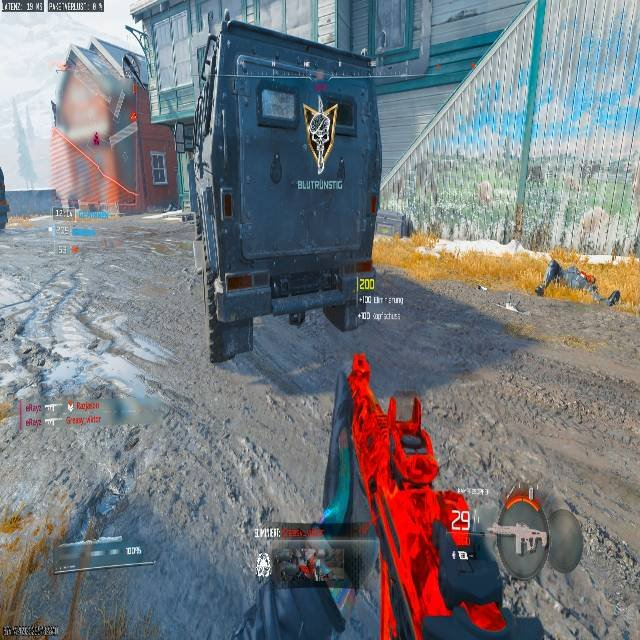player: (348, 354, 376, 422)
